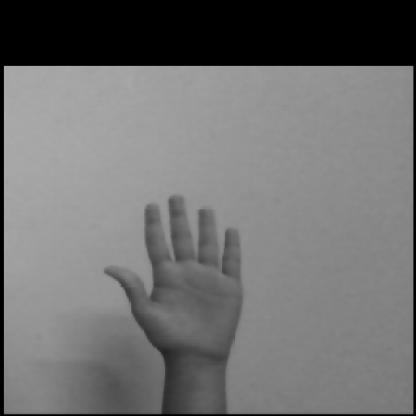palm: (100, 189, 290, 357)
